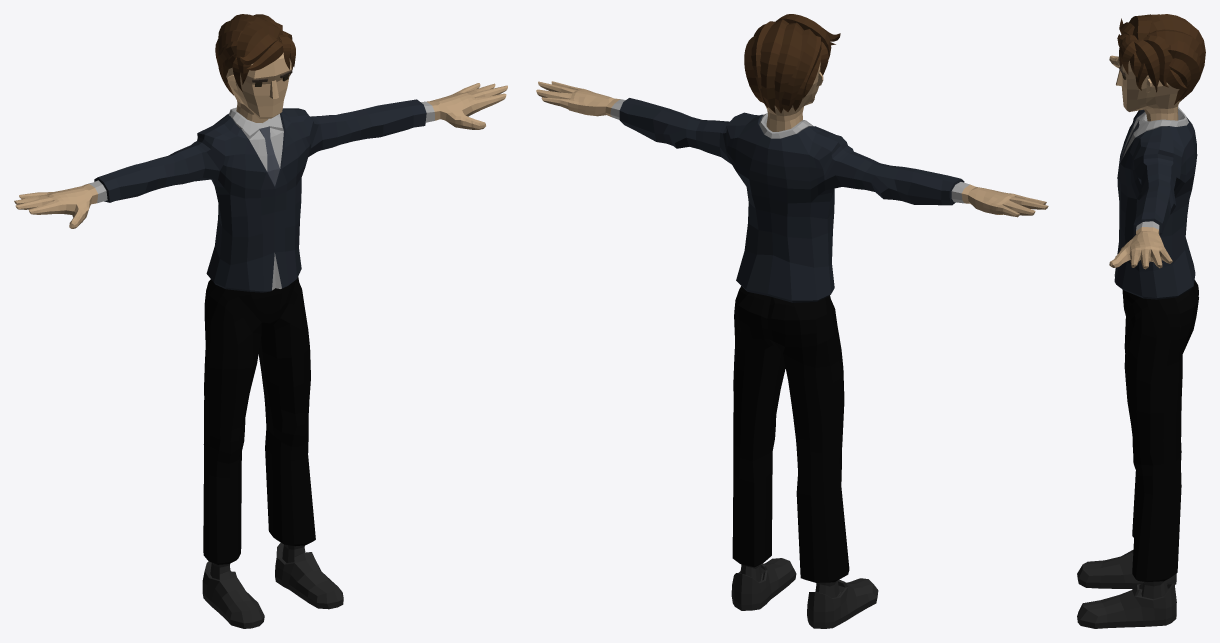
File: business_man.glb
3 views of the same model, side by side, from view 1: azimuth 30°, elevation 25°; view 2: azimuth 150°, elevation 25°; view 3: azimuth 270°, elevation 25° (orthographic). The views are drawn at different scales.
Visible parts, largest first — view 1: Suit_Legs, Suit_Body_31b997, Suit_Feet, Suit_Body_9d93de, Suit_Head_48d7b5, Suit_Head_0243b4, Suit_Body_9582e2; view 2: Suit_Legs, Suit_Body_31b997, Suit_Head_48d7b5, Suit_Feet, Suit_Body_9d93de, Suit_Head_0243b4, Suit_Body_9582e2; view 3: Suit_Legs, Suit_Body_31b997, Suit_Head_48d7b5, Suit_Feet, Suit_Head_0243b4, Suit_Body_9d93de, Suit_Body_9582e2.
Boxes of the visible parts, box(x1,y1,x2,y2) form: Suit_Legs: box(203, 277, 315, 564); Suit_Body_31b997: box(94, 99, 426, 292); Suit_Feet: box(202, 542, 343, 628); Suit_Body_9d93de: box(14, 83, 507, 228); Suit_Head_48d7b5: box(215, 14, 295, 95); Suit_Head_0243b4: box(226, 52, 291, 122); Suit_Body_9582e2: box(88, 101, 434, 290); Suit_Legs: box(732, 286, 849, 582); Suit_Body_31b997: box(619, 98, 964, 302); Suit_Head_48d7b5: box(744, 14, 840, 113); Suit_Feet: box(731, 558, 878, 628); Suit_Body_9d93de: box(536, 81, 1048, 217); Suit_Head_0243b4: box(765, 62, 823, 131); Suit_Body_9582e2: box(610, 99, 969, 203); Suit_Legs: box(1122, 280, 1198, 581); Suit_Body_31b997: box(1114, 109, 1197, 299); Suit_Head_48d7b5: box(1117, 14, 1205, 104); Suit_Feet: box(1077, 550, 1176, 628); Suit_Head_0243b4: box(1116, 56, 1180, 121); Suit_Body_9d93de: box(1109, 55, 1172, 269); Suit_Body_9582e2: box(1114, 107, 1188, 276).
Bounding box in the file's own units: 2.89 × 3.2 × 0.6403.
